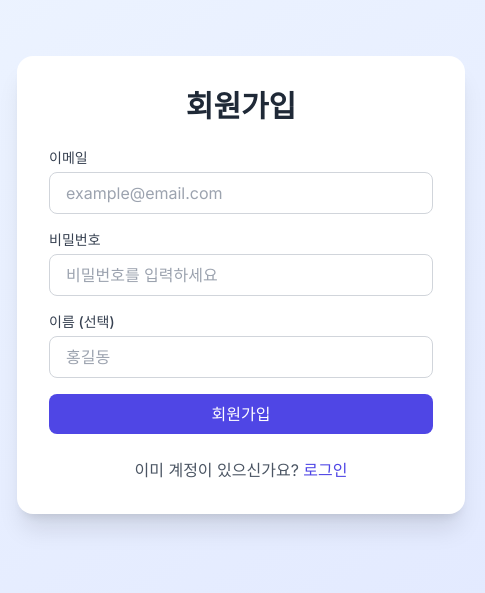
Test: RegisterPage › Error handling › should display default error message when error is not an Error instance
Type "test@example.com" into the field labelled "이메일" at (241, 193), box x1=49 y1=172 x2=433 y2=214
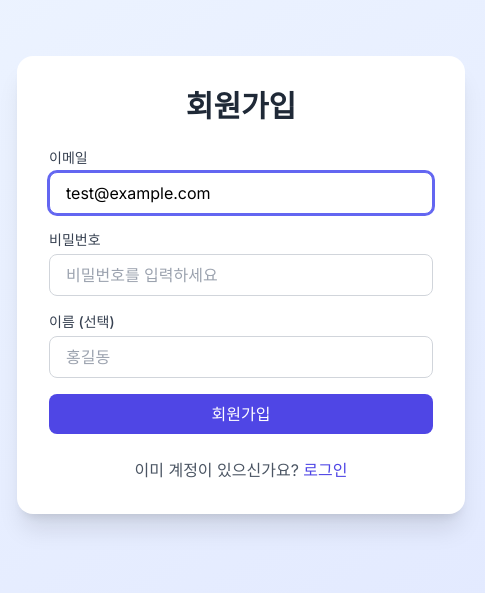
Type "password123" into the password field labelled "비밀번호" at (241, 275), box x1=49 y1=254 x2=433 y2=296
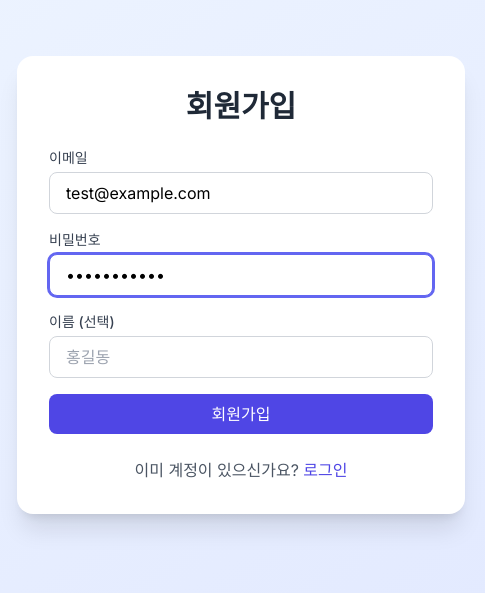
Click the button "회원가입" at (241, 414), box x1=49 y1=394 x2=433 y2=434
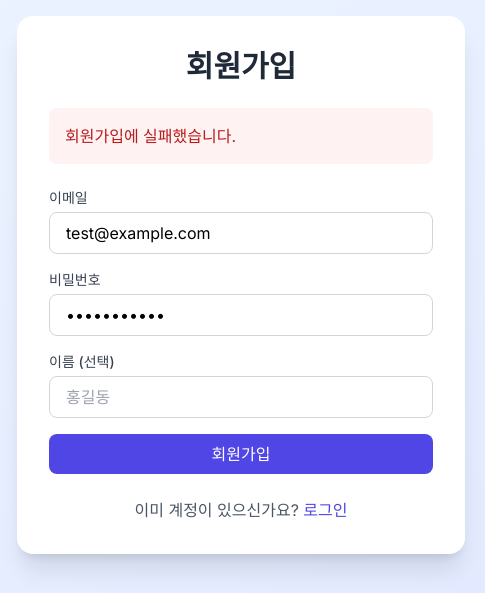
Check: the text "회원가입에 실패했습니다." is shown, box x1=49 y1=108 x2=433 y2=164
